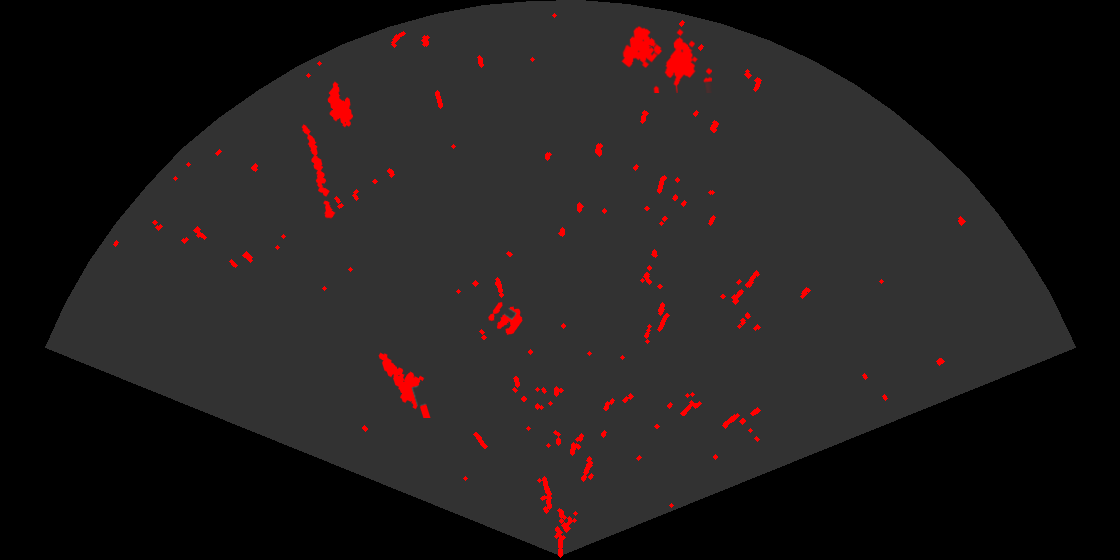AUV: (326, 80, 355, 129)
ball: (487, 300, 524, 337)
cage: (620, 25, 712, 93)
chain: (300, 123, 337, 221)
frogman: (377, 351, 432, 418)
